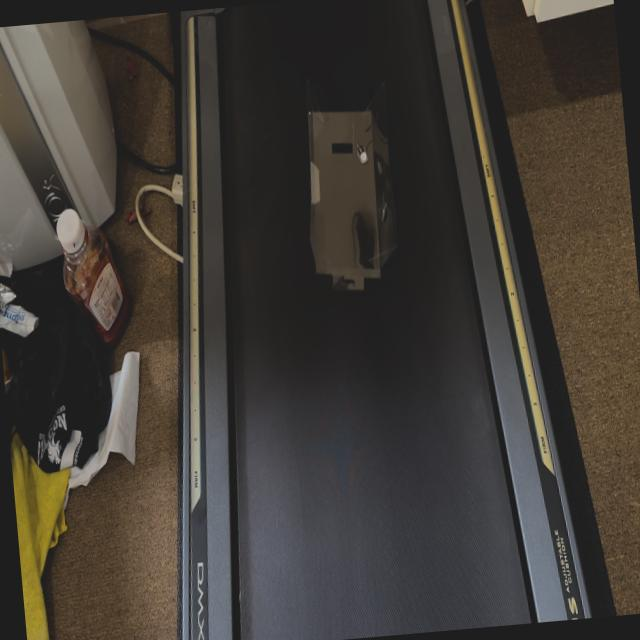Trash: (300, 90, 403, 310)
